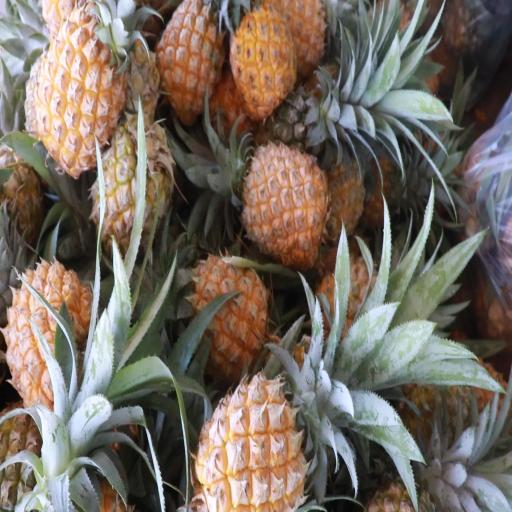------------------------------: (94, 116, 170, 244)
Pineapple - v8 v1: (196, 377, 306, 512), (8, 260, 93, 415), (42, 18, 126, 168), (239, 144, 329, 262), (189, 259, 271, 370), (153, 0, 227, 119), (231, 4, 298, 113)
